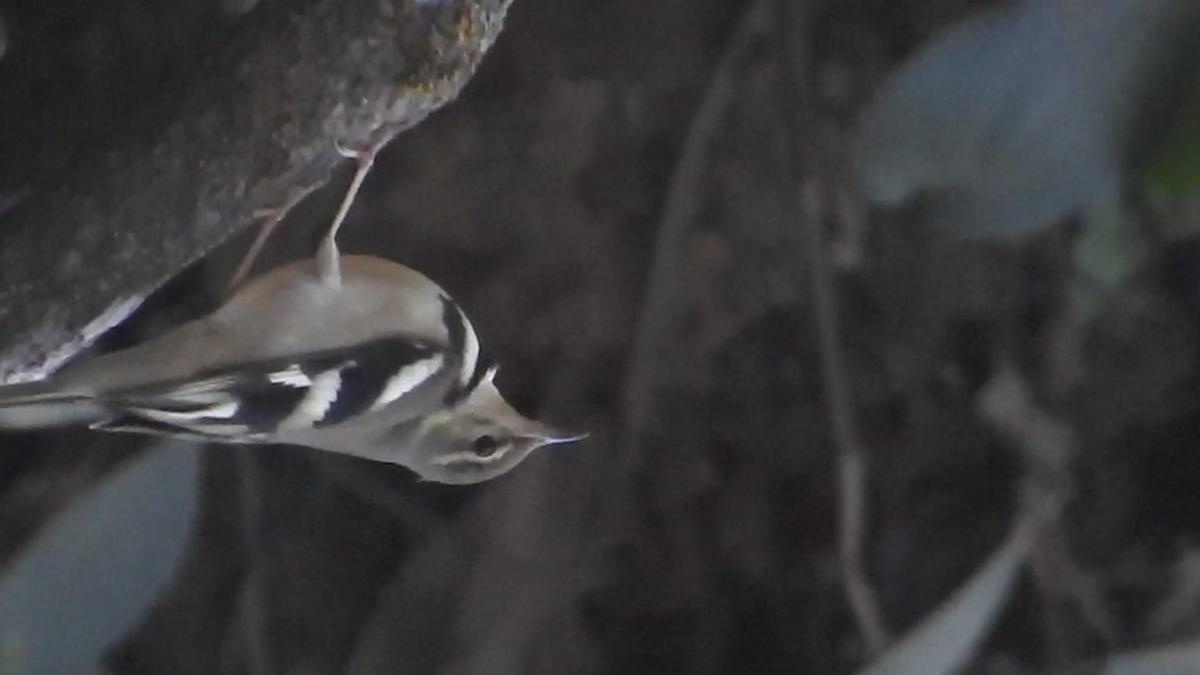wagtail: (36, 185, 598, 503)
